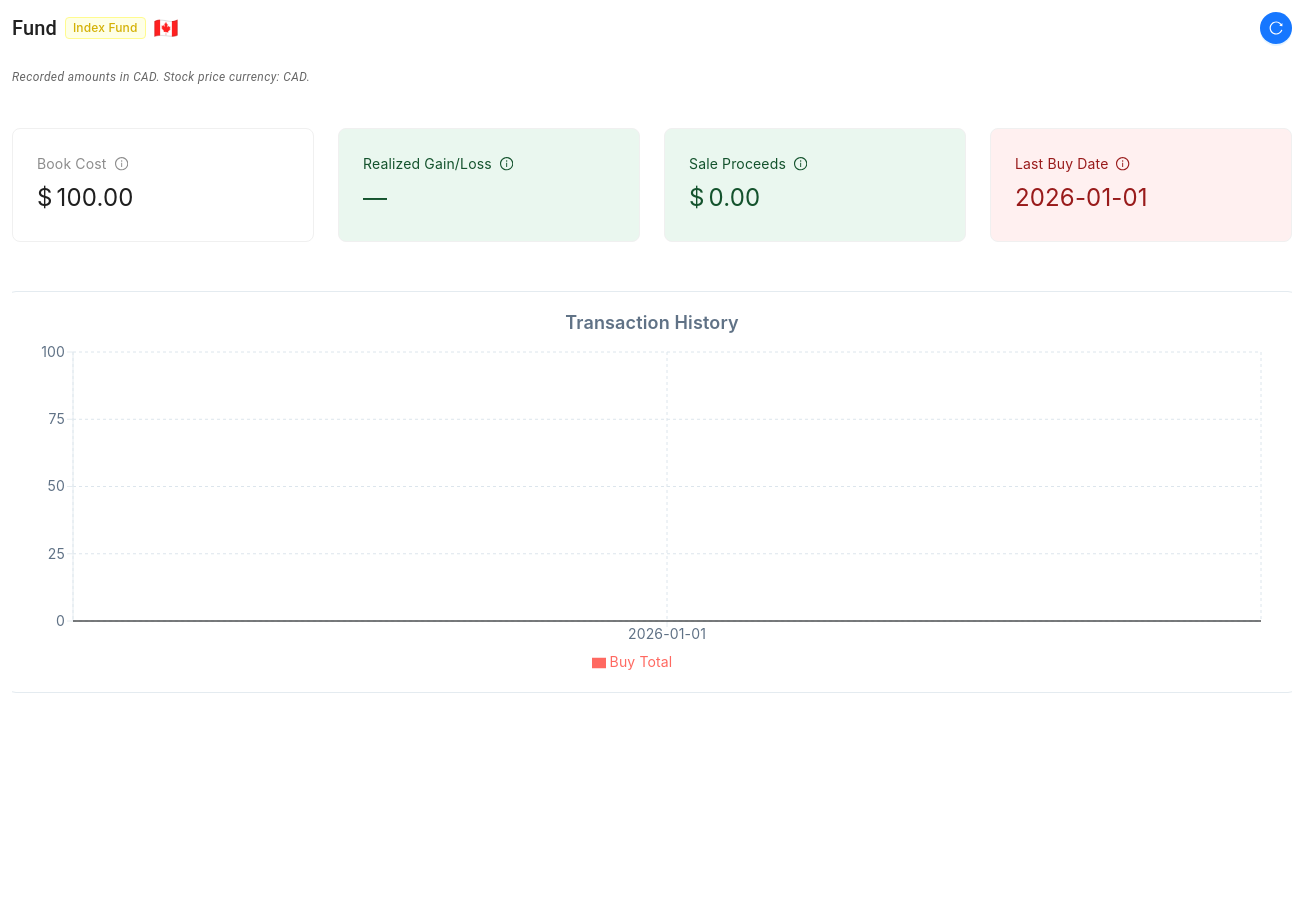
Test case: Index Fund omits irrelevant cards, dividend history and share labels
expect the text "Transaction History" is shown: met, box [565,311,739,332]
expect the element "Book Cost" shows "100.00": met, box [12,128,314,242]
Click the button named "About Book Cost" at (121, 164), box [110,155,132,174]
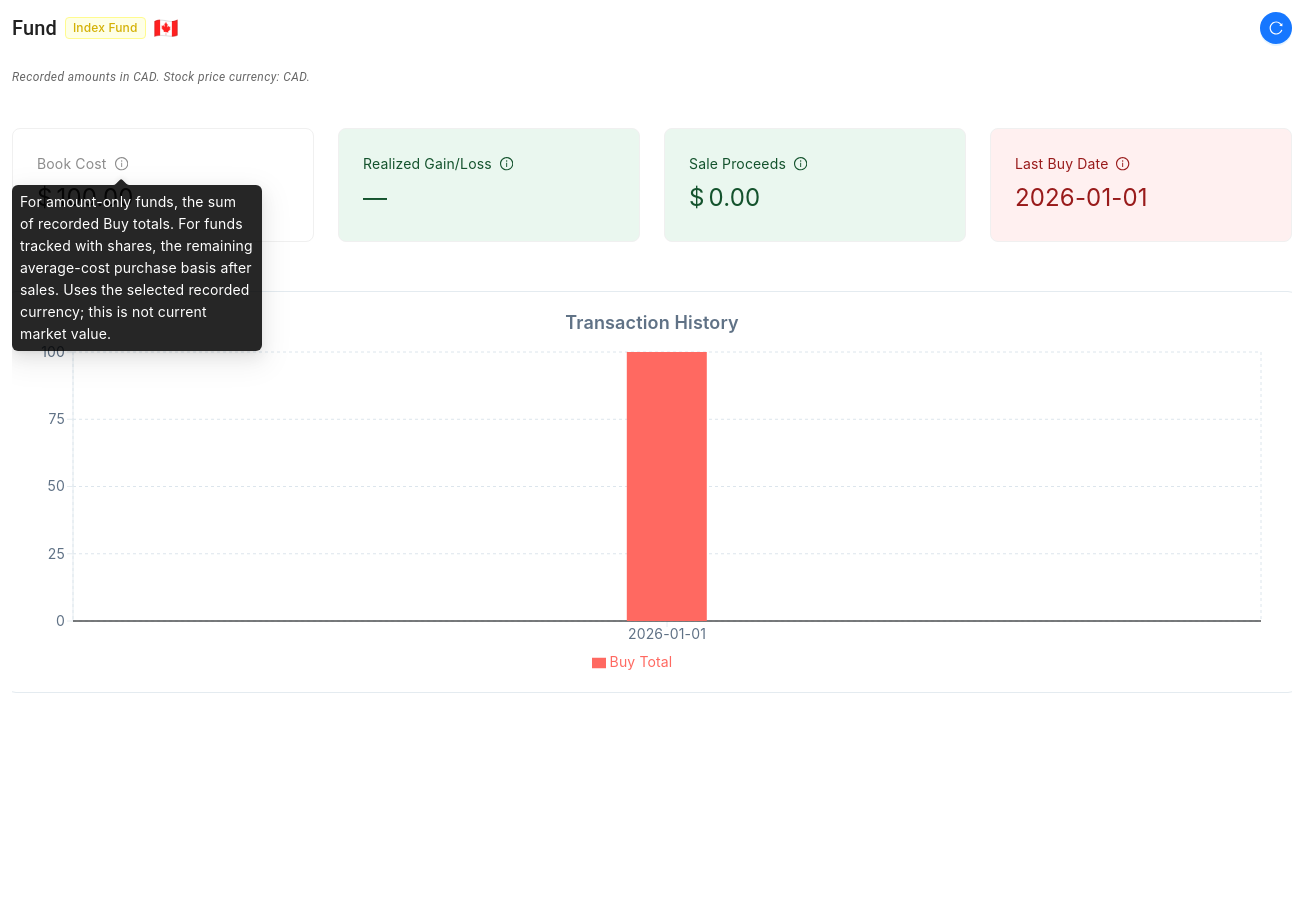
expect the tooltip shows "For amount-only funds, the sum of recorded Buy totals": met, box [20,193,253,342]
